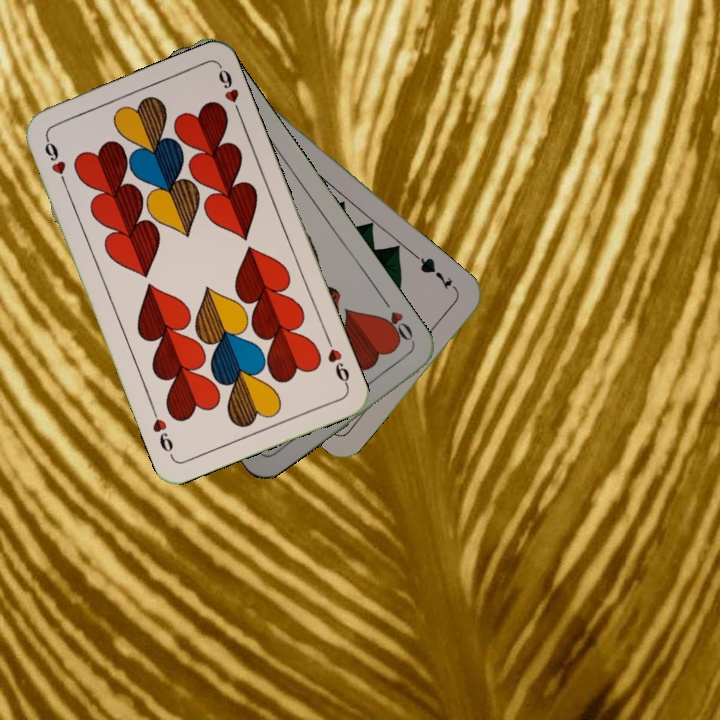G7: (412, 252, 455, 292)
H9: (322, 333, 352, 390), (40, 133, 70, 190)
HO: (376, 295, 418, 347)
